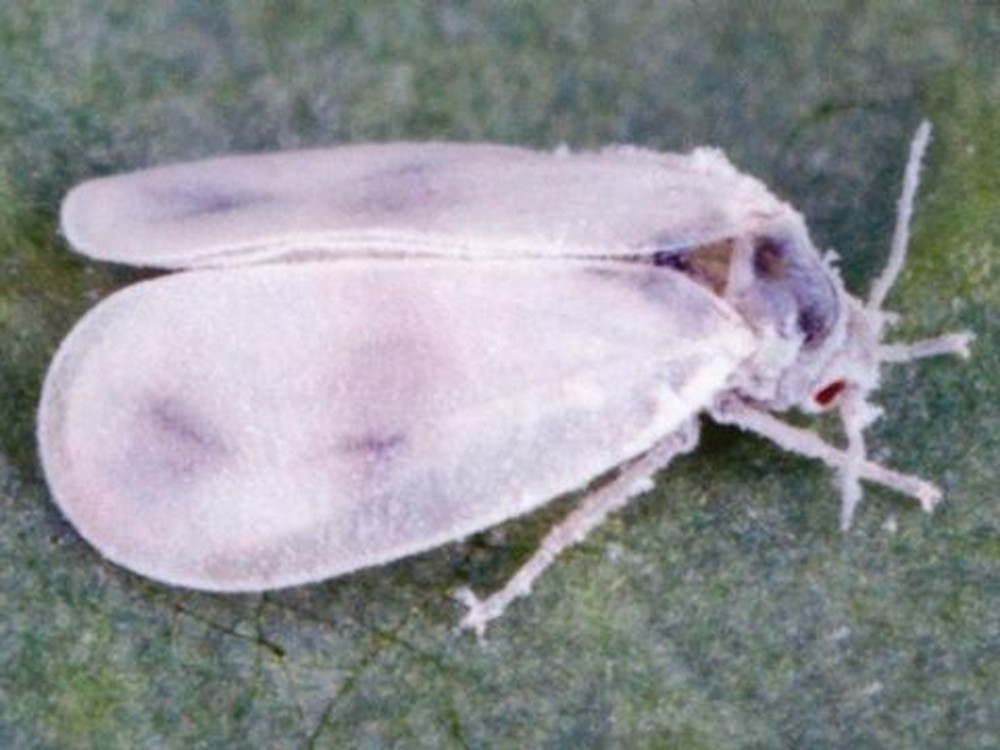Mosca Blanca: (50, 119, 981, 632)
